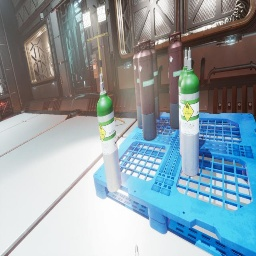0: (97, 72, 122, 192), (180, 47, 199, 176), (178, 47, 188, 156), (135, 244, 139, 256)
EmergencyPhone ,: (59, 76, 63, 84)
NitrogenTank ,: (138, 39, 157, 141), (168, 31, 183, 129), (146, 41, 160, 119), (133, 43, 143, 129)
SafetySwitchPanel ,: (91, 53, 100, 78)
